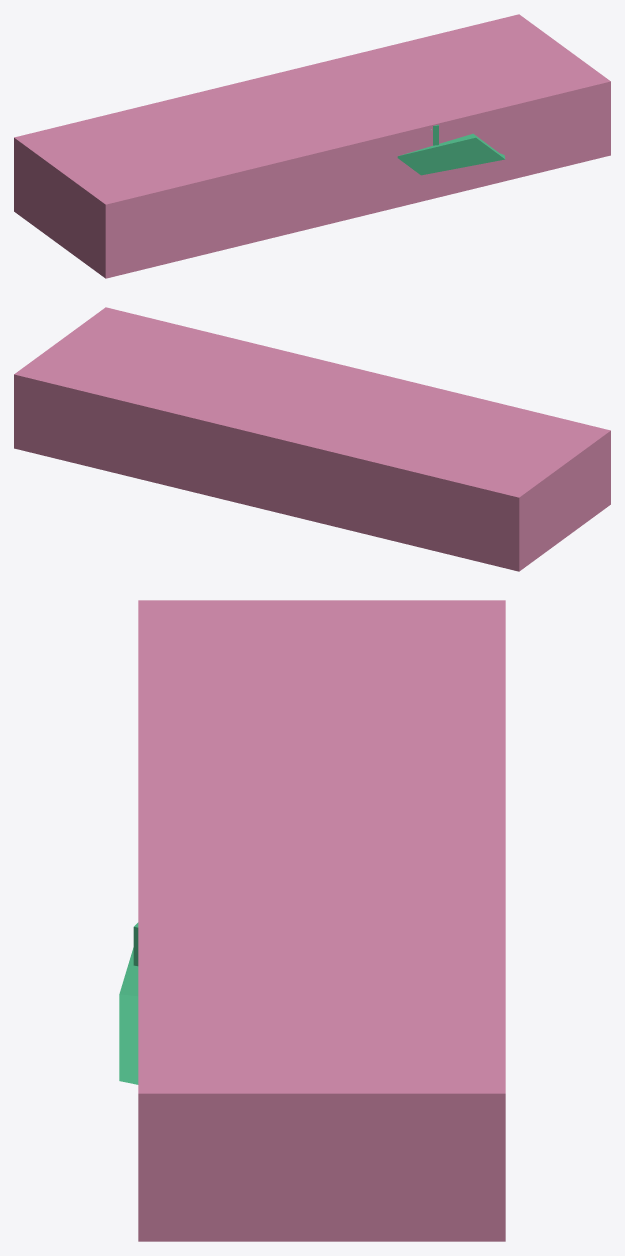
Rendered from ind_rubbish_01_b.dae.
The picture shows the model from 3 angles, top to bottom: view 1: azimuth 30°, elevation 25°; view 2: azimuth 150°, elevation 25°; view 3: azimuth 270°, elevation 25°; orthographic projection. The views are drawn at different scales.
Visible parts, largest first — view 1: Untitled, Colmesh-1; view 2: Untitled; view 3: Untitled, Colmesh-1.
Boxes of the visible parts, bbox=[...] form: Untitled: bbox=[14, 14, 610, 278]; Colmesh-1: bbox=[397, 124, 505, 175]; Untitled: bbox=[14, 307, 610, 571]; Untitled: bbox=[138, 600, 505, 1241]; Colmesh-1: bbox=[119, 922, 138, 1084].
Bounding box in the file's own units: 5.58 × 1.85 × 0.7812.
